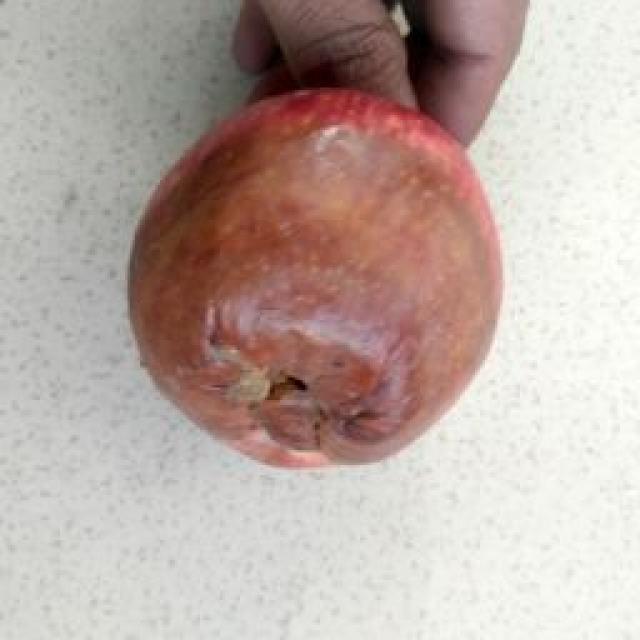Bad_Apple: (129, 89, 502, 466)
